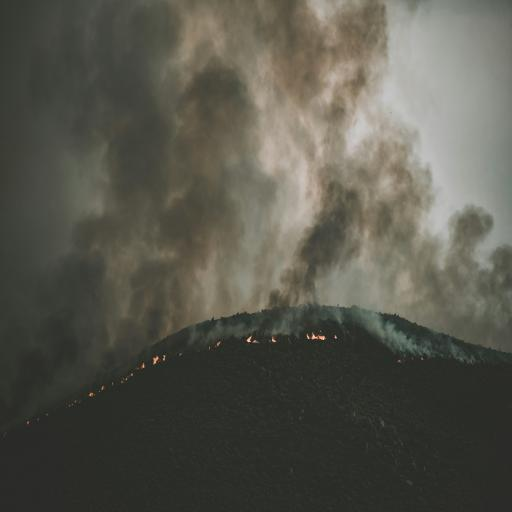wildfire: (0, 213, 509, 448)
